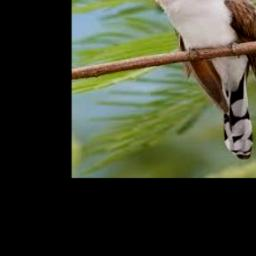Cuckoo: (131, 0, 256, 159)
